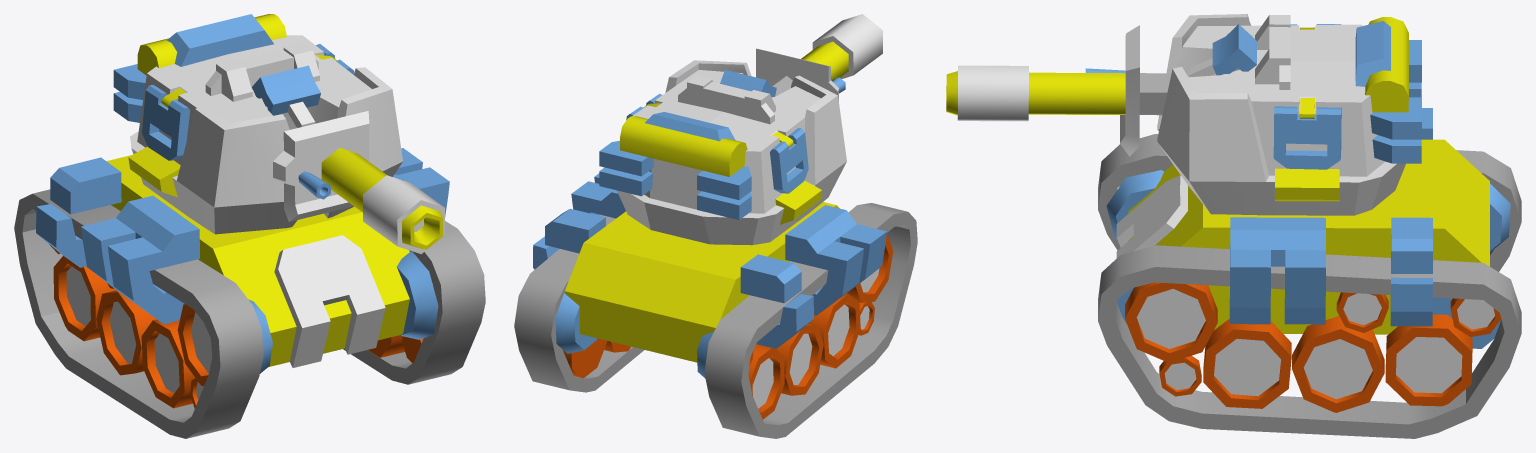
Rendered from Tank2.fbx.
3 renders of one model, left to right at view 1: azimuth 30°, elevation 25°; view 2: azimuth 150°, elevation 25°; view 3: azimuth 270°, elevation 25°, orthographic. The views are drawn at different scales.
Visible parts, largest first — view 1: Tank_lower_body, Tank_upper_body, Tank_pipe; view 2: Tank_lower_body, Tank_upper_body, Tank_pipe; view 3: Tank_lower_body, Tank_upper_body, Tank_pipe.
Part boxes in pixels (x1=…): Tank_lower_body: x1=14, y1=148, x2=485, y2=438; Tank_upper_body: x1=113, y1=14, x2=402, y2=234; Tank_pipe: x1=278, y1=112, x2=445, y2=254; Tank_lower_body: x1=514, y1=173, x2=917, y2=438; Tank_upper_body: x1=599, y1=48, x2=846, y2=245; Tank_pipe: x1=769, y1=14, x2=882, y2=96; Tank_lower_body: x1=1098, y1=108, x2=1521, y2=438; Tank_upper_body: x1=1085, y1=14, x2=1421, y2=215; Tank_pipe: x1=946, y1=65, x2=1215, y2=121.
Size of the model in its own units: 111 by 108 by 167.
